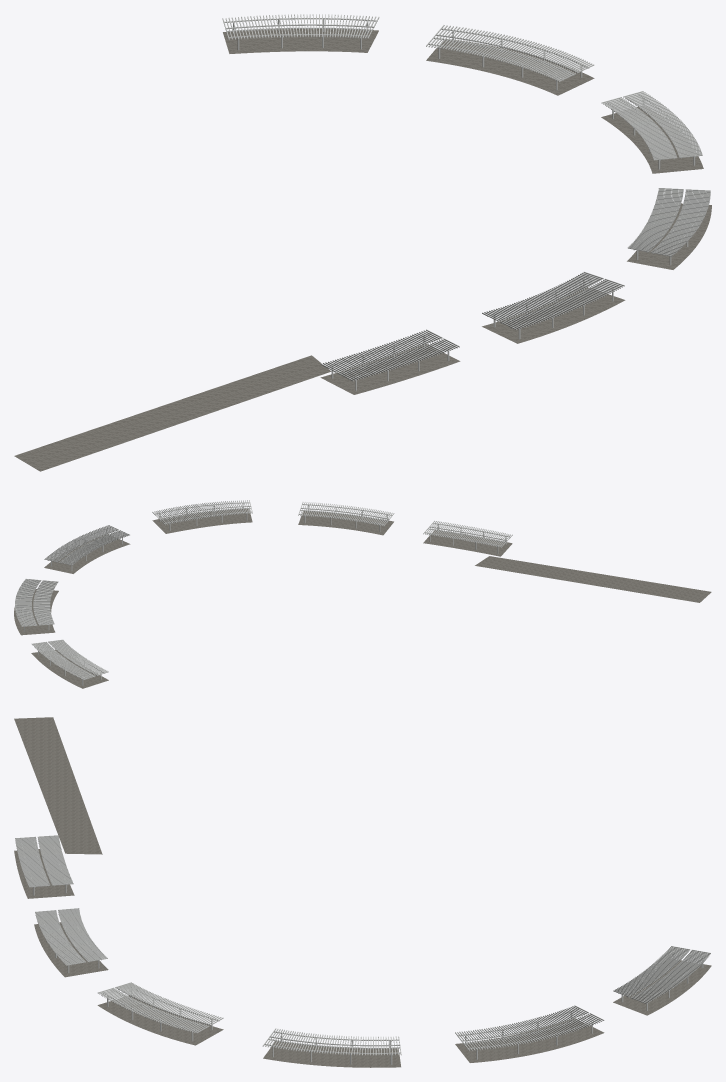
The picture shows the model from 3 angles, top to bottom: view 1: azimuth 30°, elevation 25°; view 2: azimuth 150°, elevation 25°; view 3: azimuth 270°, elevation 25°; orthographic projection. The views are drawn at different scales.
Visible parts, largest first — view 1: Museum promenade granite, Museum promenade painted aluminium; view 2: Museum promenade granite, Museum promenade painted aluminium; view 3: Museum promenade granite, Museum promenade painted aluminium.
Boxes of the visible parts, left/top/right/bottom form: Museum promenade granite: left=14, top=29, right=711, bottom=471; Museum promenade painted aluminium: left=222, top=14, right=710, bottom=390; Museum promenade granite: left=14, top=509, right=711, bottom=688; Museum promenade painted aluminium: left=15, top=500, right=512, bottom=685; Museum promenade granite: left=14, top=717, right=711, bottom=1067; Museum promenade painted aluminium: left=15, top=835, right=710, bottom=1064.
Size of the model in its own units: 186 by 3.1 by 157.
Materials: 2 (1 with a texture image).
